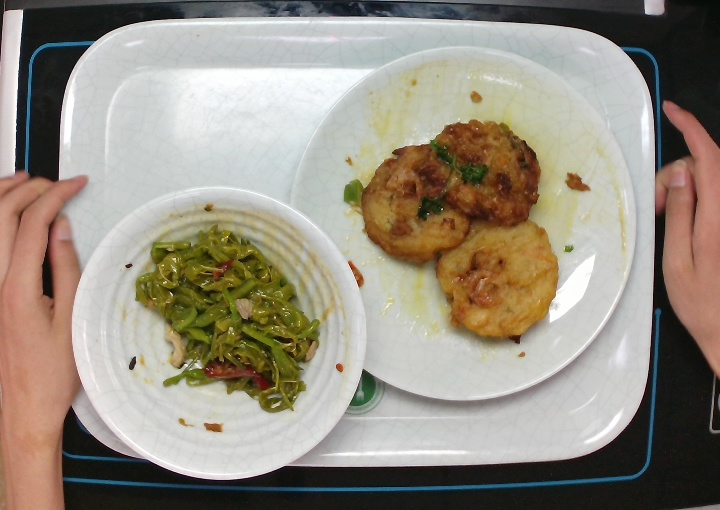JYsf-Da_Yuan_Pan: (285, 41, 642, 404)
JYsf-Xiao_Tang_Wan: (67, 181, 368, 482)
